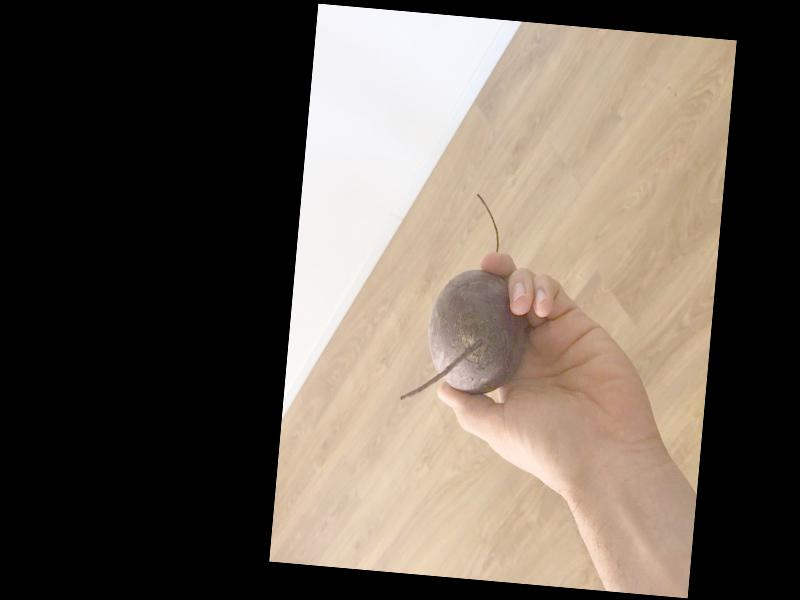Beet: (400, 187, 538, 409)
